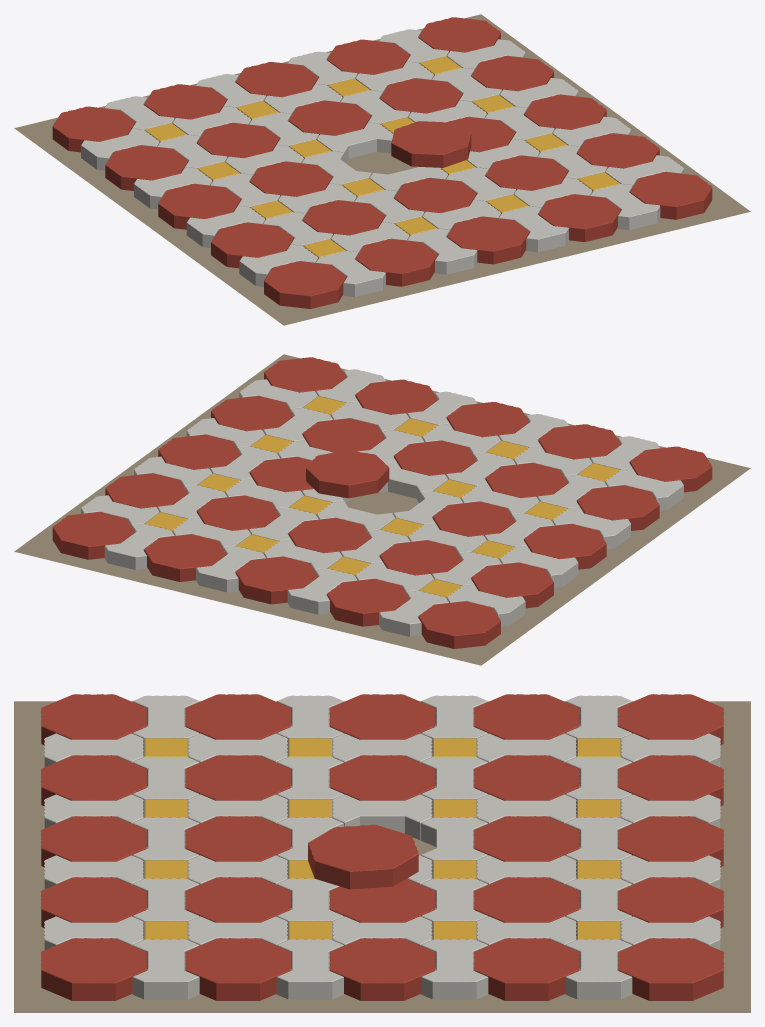
File: terilgan.glb
The picture shows the model from 3 angles, top to bottom: view 1: azimuth 30°, elevation 25°; view 2: azimuth 150°, elevation 25°; view 3: azimuth 270°, elevation 25°; orthographic projection. The views are drawn at different scales.
Parts seen in each view (by area): view 1: qum, t.044, t, t.072, t.036, t.054, t.018, t.016, t.004, t.012, t.008, t.074 (+53 smaller); view 2: qum, t.044, t.016, t.080, t.052, t.070, t.034, t, t.012, t.004, t.008, t.078 (+53 smaller); view 3: qum, t.044, t.072, t.080, t.074, t.078, t.076, t, t.016, t.018, t.034, t.036 (+68 smaller).
Part boxes in pixels (left/top/right/bottom): qum: left=14, top=14, right=750, bottom=325; t.044: left=391, top=121, right=471, bottom=167; t: left=264, top=261, right=346, bottom=308; t.072: left=629, top=172, right=712, bottom=219; t.036: left=446, top=216, right=529, bottom=264; t.054: left=538, top=194, right=620, bottom=241; t.018: left=355, top=239, right=437, bottom=286; t.016: left=52, top=106, right=135, bottom=152; t.004: left=211, top=222, right=293, bottom=268; t.012: left=105, top=145, right=187, bottom=190; t.008: left=158, top=184, right=240, bottom=229; t.074: left=577, top=133, right=659, bottom=168; qum: left=14, top=354, right=750, bottom=665; t.044: left=306, top=450, right=389, bottom=498; t.016: left=418, top=601, right=500, bottom=648; t.080: left=52, top=512, right=135, bottom=559; t.052: left=235, top=556, right=318, bottom=604; t.070: left=144, top=534, right=226, bottom=581; t.034: left=327, top=579, right=409, bottom=626; t: left=629, top=446, right=712, bottom=492; t.012: left=471, top=562, right=553, bottom=608; t.004: left=577, top=485, right=659, bottom=530; t.008: left=524, top=524, right=606, bottom=569; t.078: left=105, top=473, right=187, bottom=508; qum: left=14, top=701, right=750, bottom=1012; t.044: left=308, top=824, right=418, bottom=889; t.072: left=40, top=938, right=146, bottom=1000; t.080: left=618, top=938, right=724, bottom=1000; t.074: left=185, top=938, right=291, bottom=1000; t.078: left=473, top=938, right=579, bottom=1000; t.076: left=329, top=938, right=435, bottom=1000; t: left=40, top=694, right=146, bottom=745; t.016: left=618, top=694, right=724, bottom=745; t.018: left=40, top=755, right=146, bottom=805; t.034: left=618, top=755, right=724, bottom=805; t.036: left=40, top=816, right=146, bottom=866.
Bounding box in the file's own units: 1.66 × 0.092 × 1.66.
